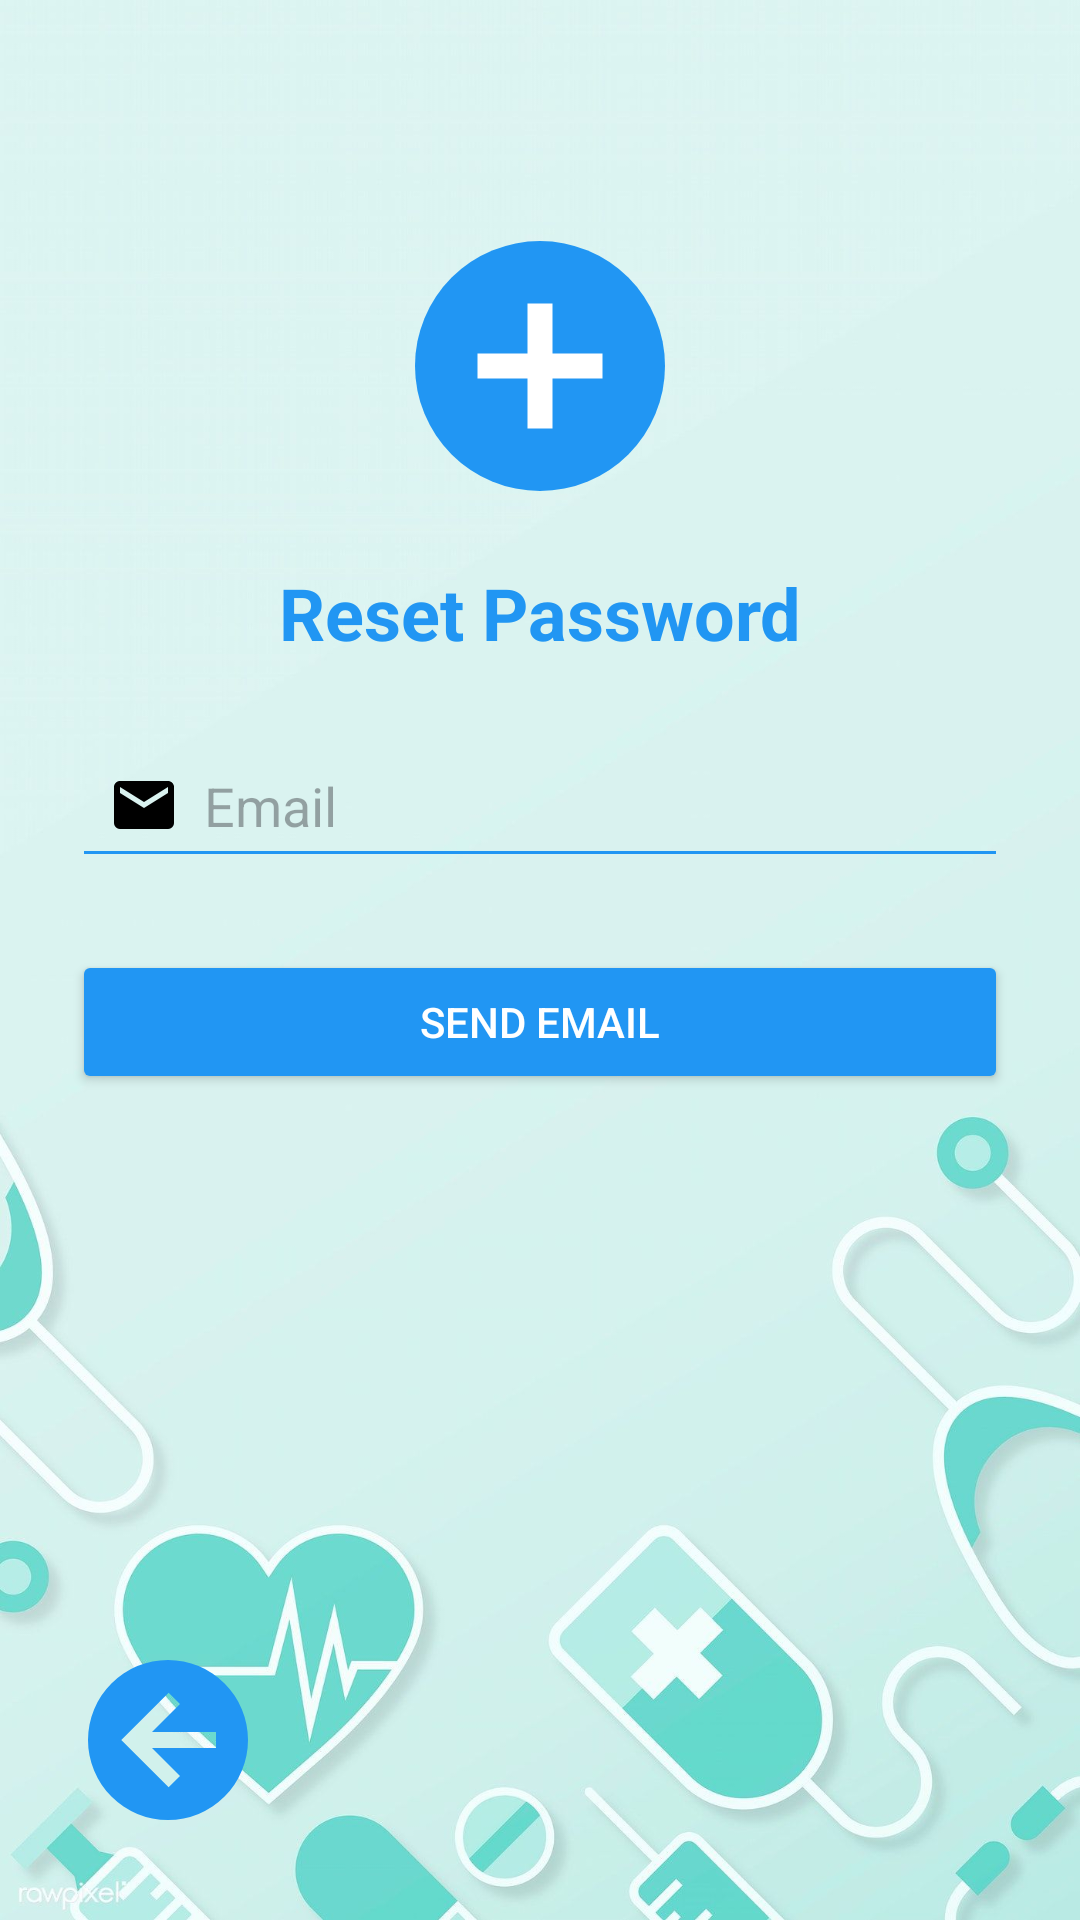

Point at icon controls on the screen. Image size 1080w x 1920h, points as point (x, y).
arrow back: point (168, 1740)
